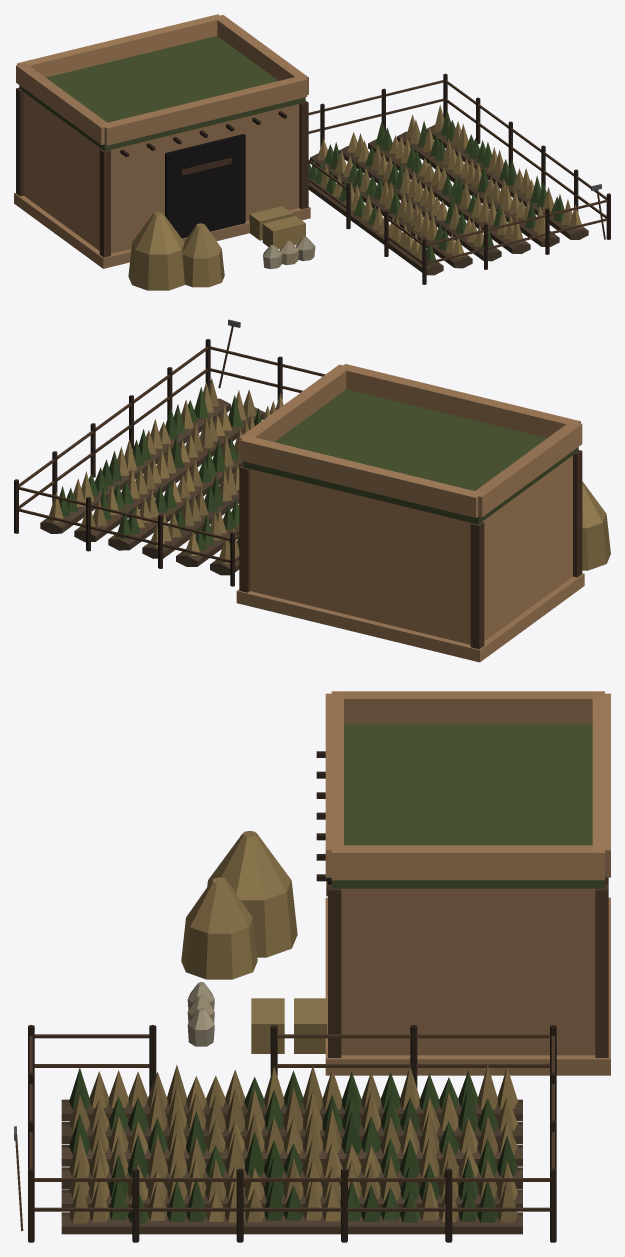
Rendered from walk_steppe_farm.glb.
The picture shows the model from 3 angles, top to bottom: view 1: azimuth 30°, elevation 25°; view 2: azimuth 150°, elevation 25°; view 3: azimuth 270°, elevation 25°; orthographic projection. The views are drawn at different scales.
Parts seen in each view (by area): view 1: walk_steppe_farm, walk_steppe_farm_roof; view 2: walk_steppe_farm, walk_steppe_farm_roof; view 3: walk_steppe_farm, walk_steppe_farm_roof.
Part boxes in pixels (x1,y1,x2,y2): walk_steppe_farm: (14,73,610,290); walk_steppe_farm_roof: (16,14,308,150); walk_steppe_farm: (14,319,610,662); walk_steppe_farm_roof: (239,364,582,524); walk_steppe_farm: (14,751,610,1242); walk_steppe_farm_roof: (325,691,610,888).
Size of what is drawn, in the model's own units: 12.6 by 4.24 by 9.84.
2 materials, 2 textured.
